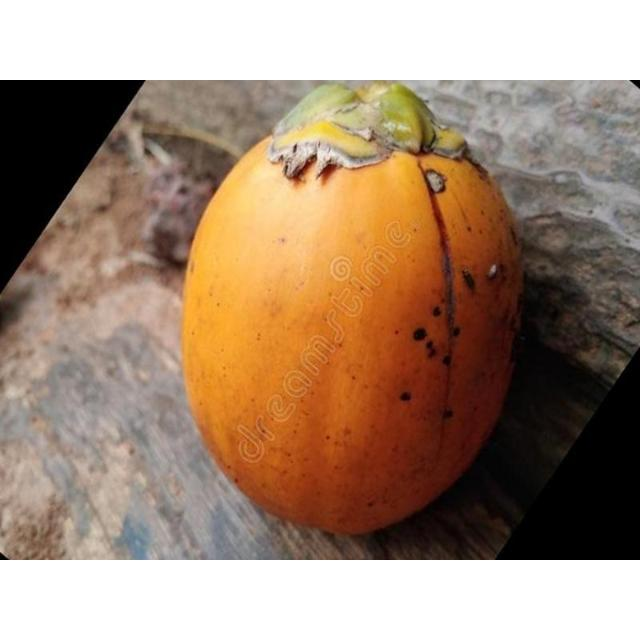good: (182, 85, 525, 538)
